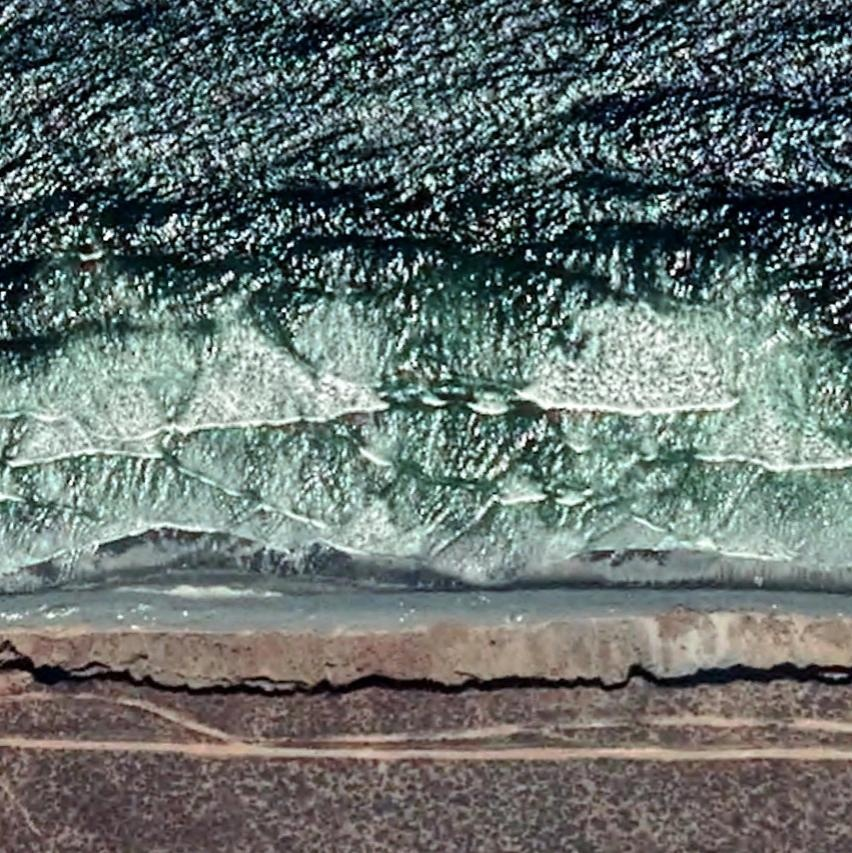rip_current: (333, 250, 554, 547)
